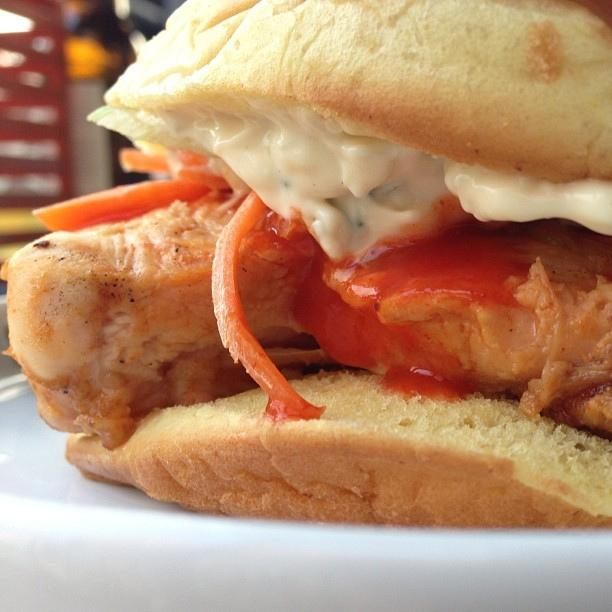carrot: (211, 192, 329, 420), (32, 179, 212, 232), (121, 150, 173, 174)
